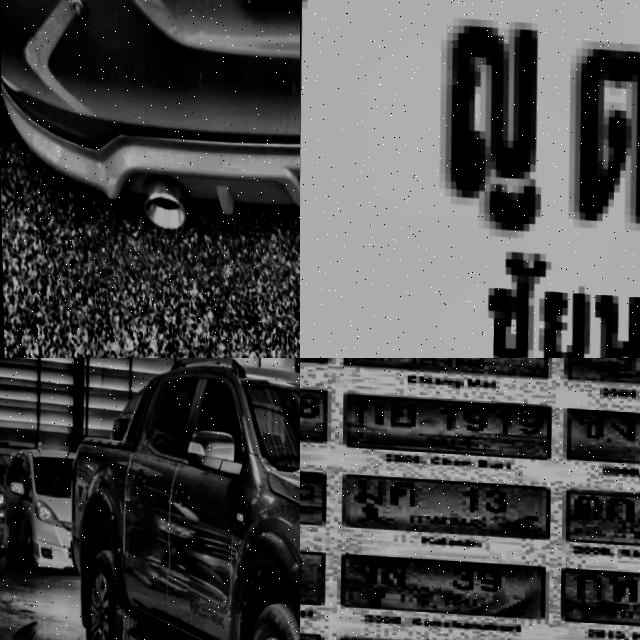license-plate: (300, 0, 640, 358), (331, 548, 550, 619), (331, 387, 551, 457), (331, 470, 553, 538), (551, 559, 640, 627), (553, 481, 640, 549), (554, 399, 640, 467), (336, 358, 553, 376)
